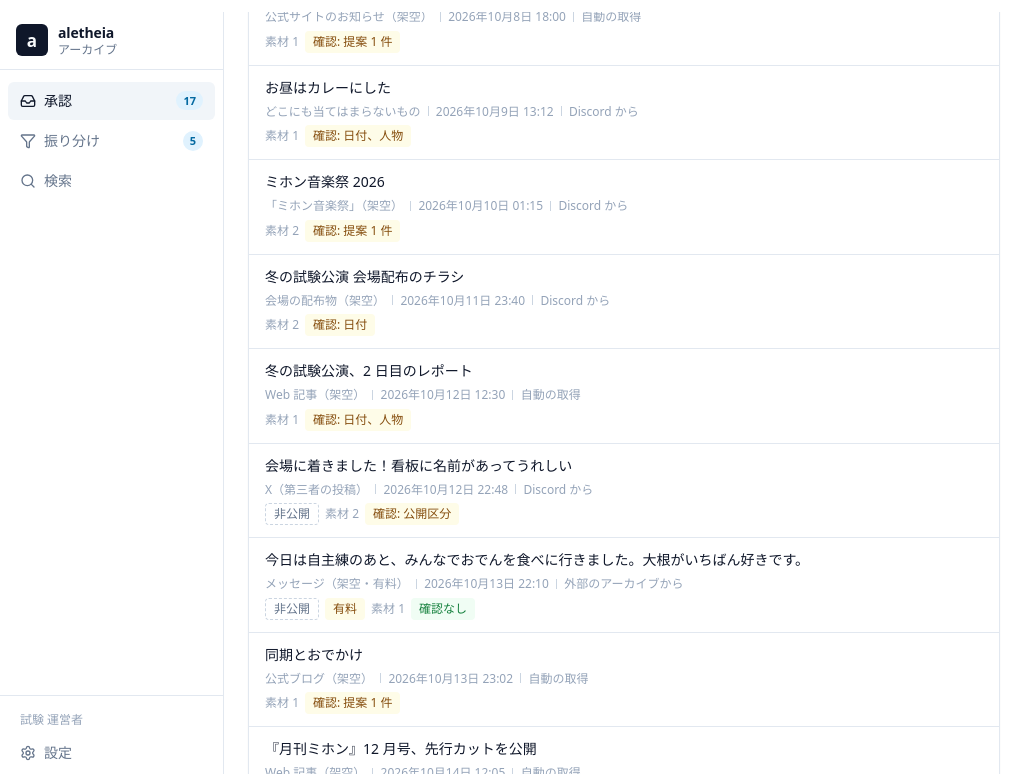
承認の画面 › 日付と人物が無い下書きは、その場で入れると承認できる
(page scrolled)
Click the link "2 日目のレポート" at (423, 396), box left=265, top=361, right=581, bottom=430
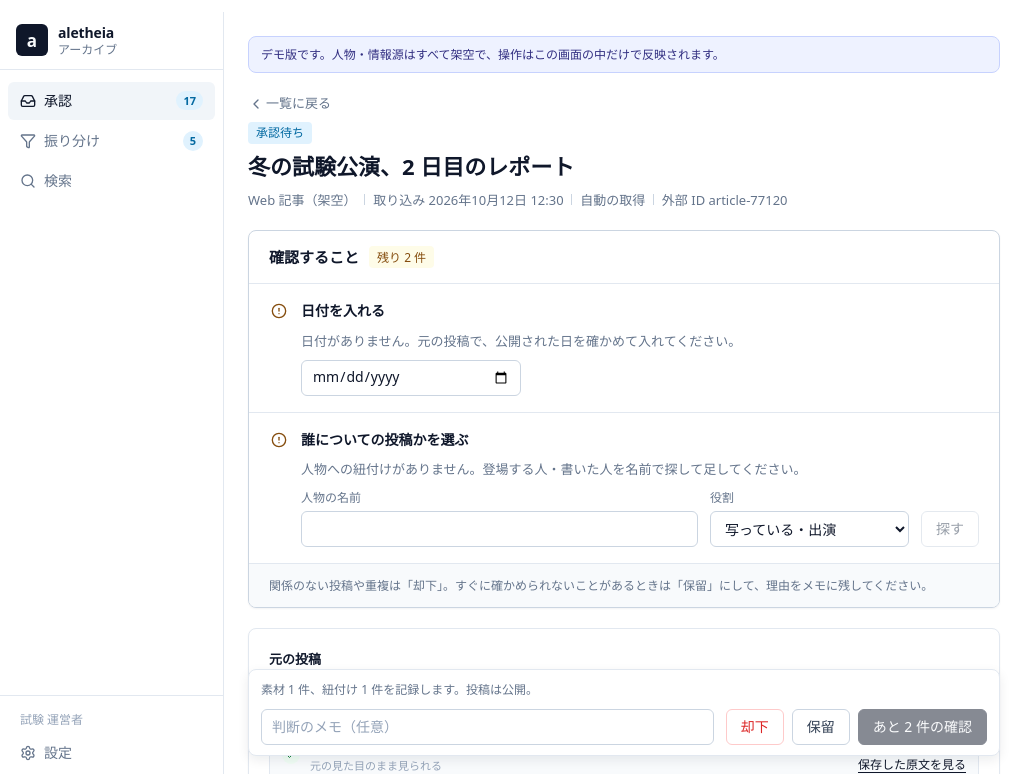
Type "2026-10-11" into the date field named "日付" at (411, 378), box left=301, top=360, right=521, bottom=396
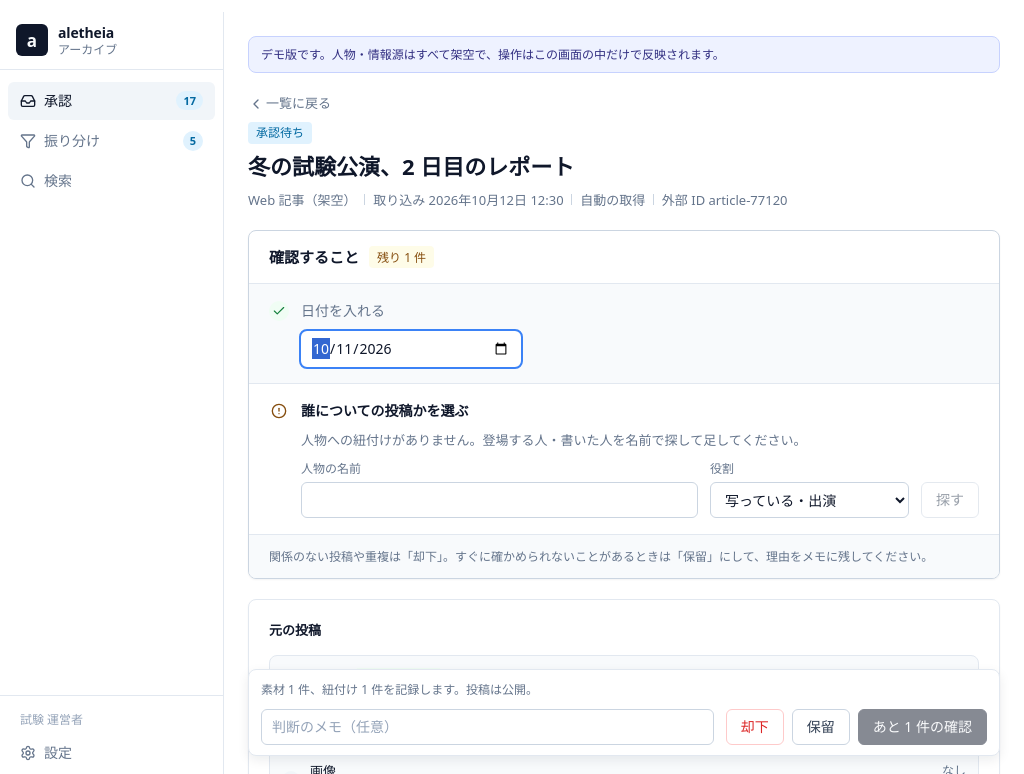
Type "試験 花子" into the field labelled "人物の名前" at (500, 500), box left=301, top=482, right=698, bottom=518
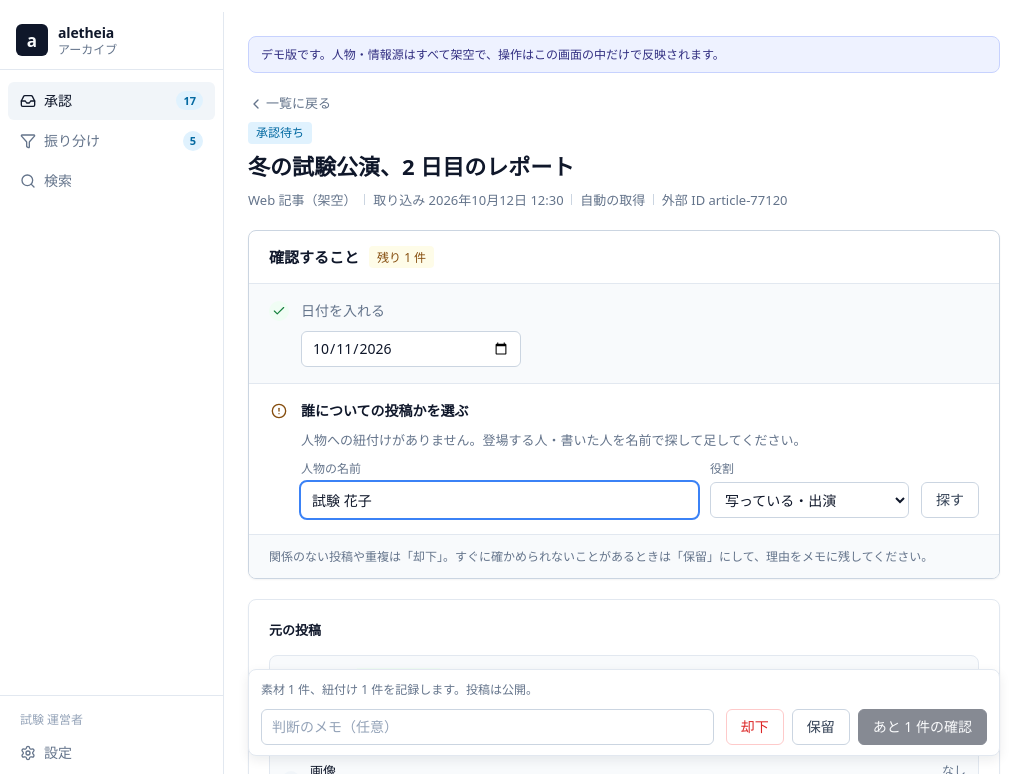
Click the button "探す" at (950, 500), box left=921, top=482, right=979, bottom=518
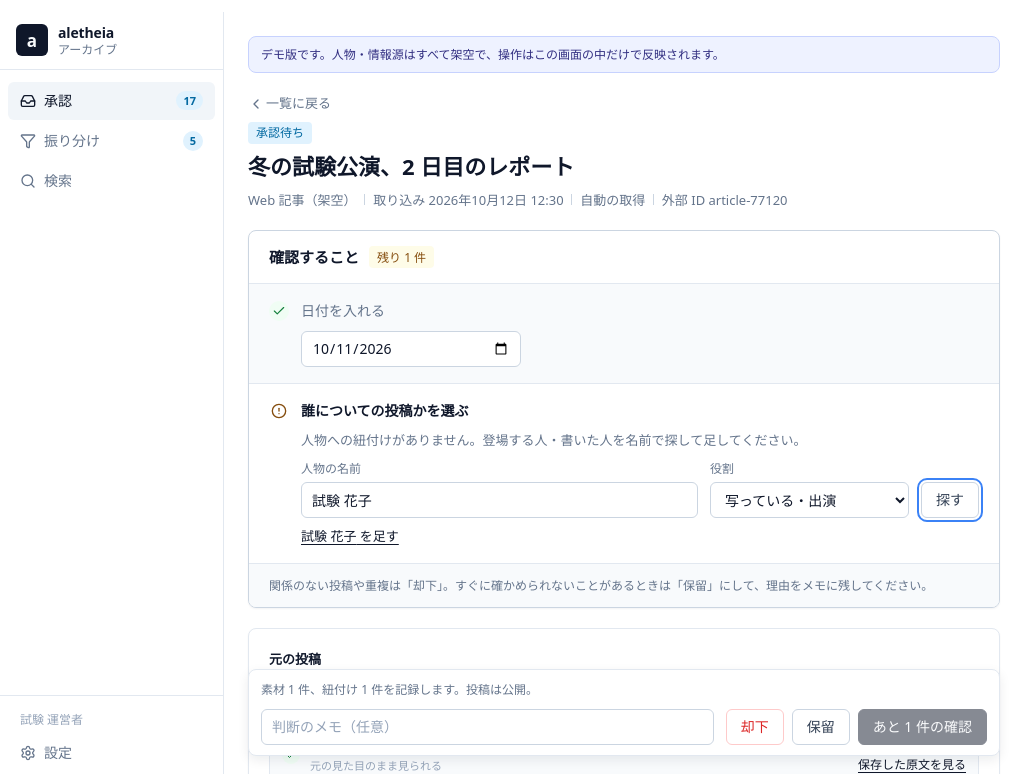
Click the button "試験 花子 を足す" at (350, 537), box left=301, top=526, right=399, bottom=547
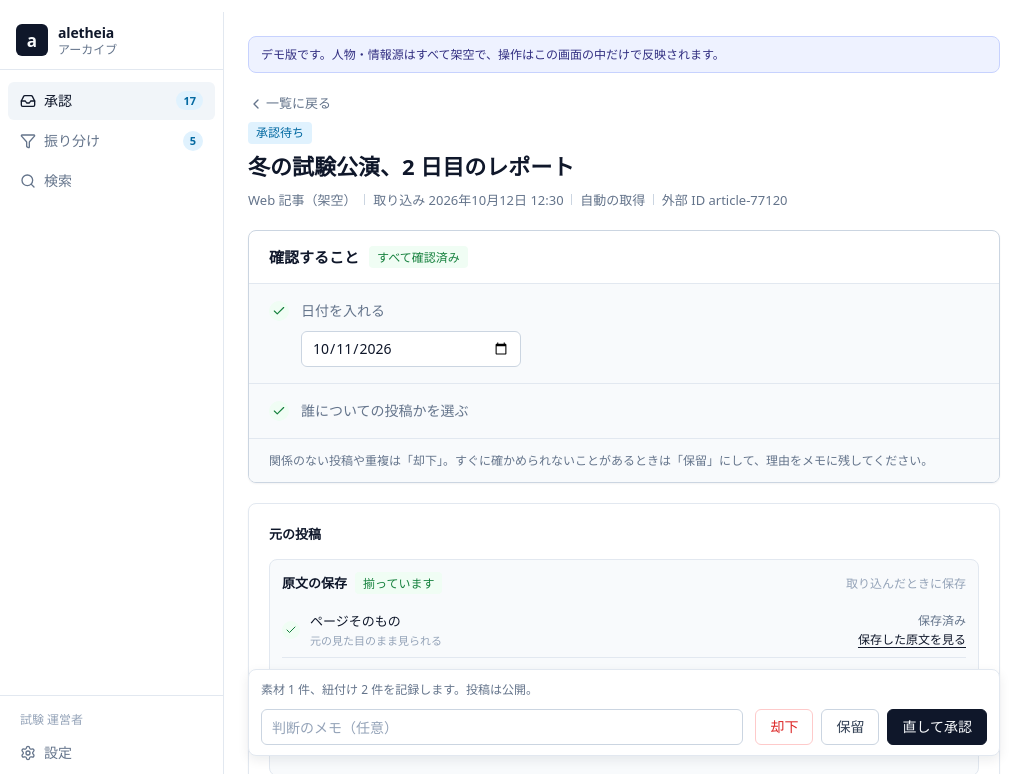
Expected: the text "すべて確認済み" is shown, left=369, top=246, right=468, bottom=268
Expected: the button "直して承認" is enabled, left=887, top=709, right=987, bottom=745
